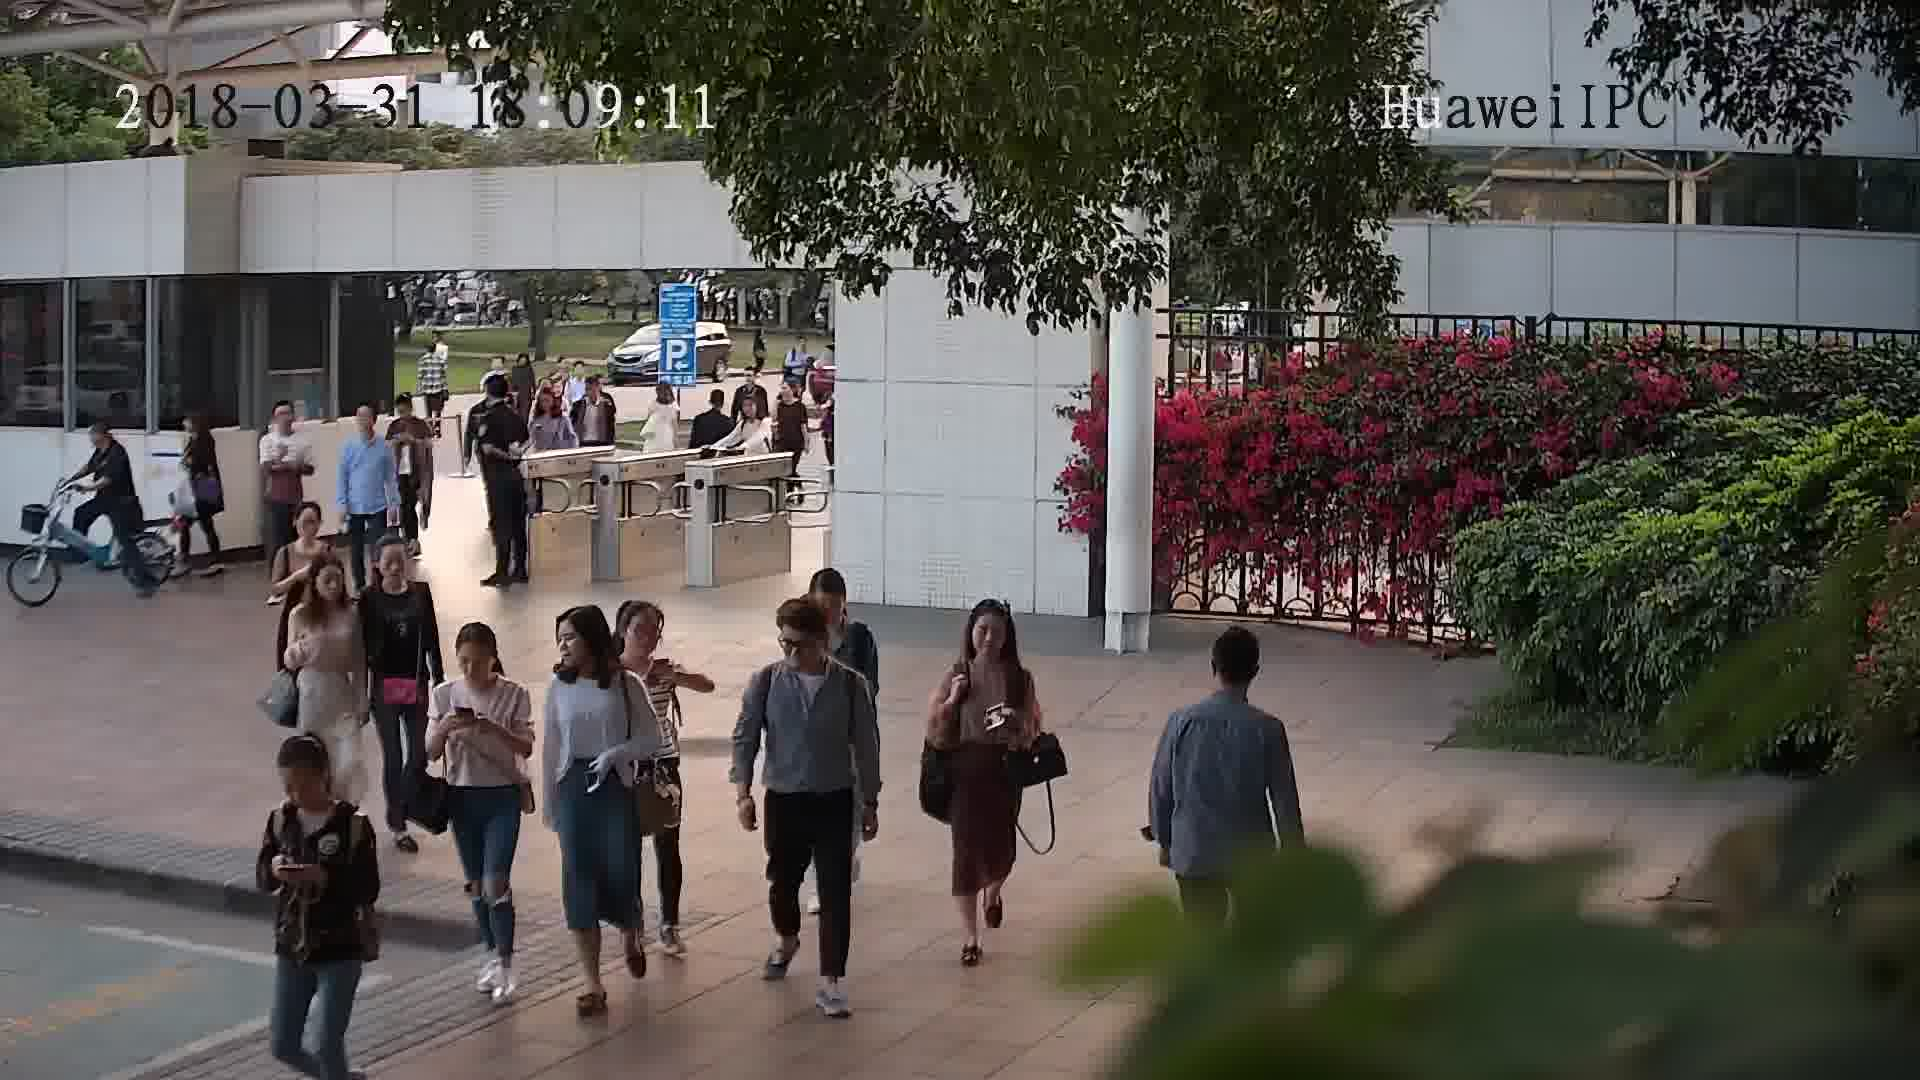face: (275, 760, 326, 812), (619, 605, 669, 656), (965, 609, 1014, 658), (777, 620, 825, 668), (549, 619, 591, 670), (452, 639, 497, 684), (373, 537, 409, 587), (312, 562, 346, 603)
person: (1160, 625, 1289, 742), (256, 731, 377, 842), (754, 603, 860, 697), (545, 601, 637, 709), (439, 618, 532, 707), (948, 597, 1033, 686), (283, 551, 371, 630), (613, 599, 687, 685), (806, 564, 873, 657), (362, 534, 436, 612), (278, 499, 335, 559), (340, 397, 393, 457), (257, 397, 308, 450), (176, 398, 221, 453), (470, 373, 520, 423), (86, 413, 131, 466), (384, 389, 433, 433), (531, 383, 574, 430), (769, 376, 811, 421), (694, 384, 735, 428), (734, 388, 776, 431), (645, 378, 686, 420), (574, 371, 617, 409), (415, 339, 450, 376), (563, 360, 597, 395), (419, 328, 453, 360), (736, 364, 768, 398), (781, 332, 816, 363)
